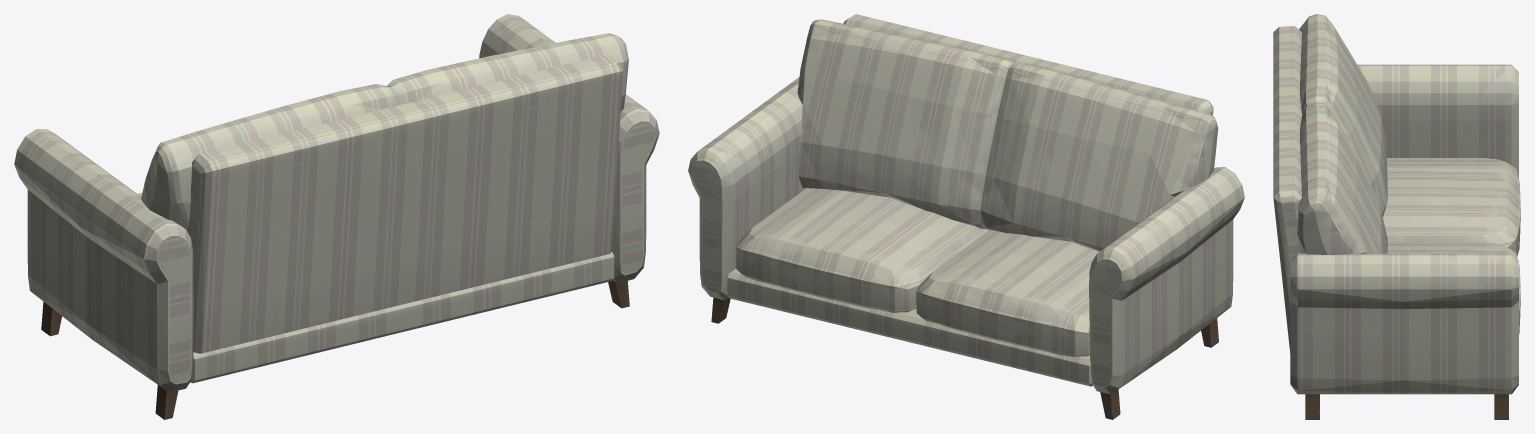
Rendered from P_Sofa_014_S1_M01.obj.
3 renders of one model, left to right at view 1: azimuth 30°, elevation 25°; view 2: azimuth 150°, elevation 25°; view 3: azimuth 270°, elevation 25°, orthographic. The views are drawn at different scales.
Size of the model in its own units: 1.99 by 1.01 by 1.
1 material, 1 textured.
